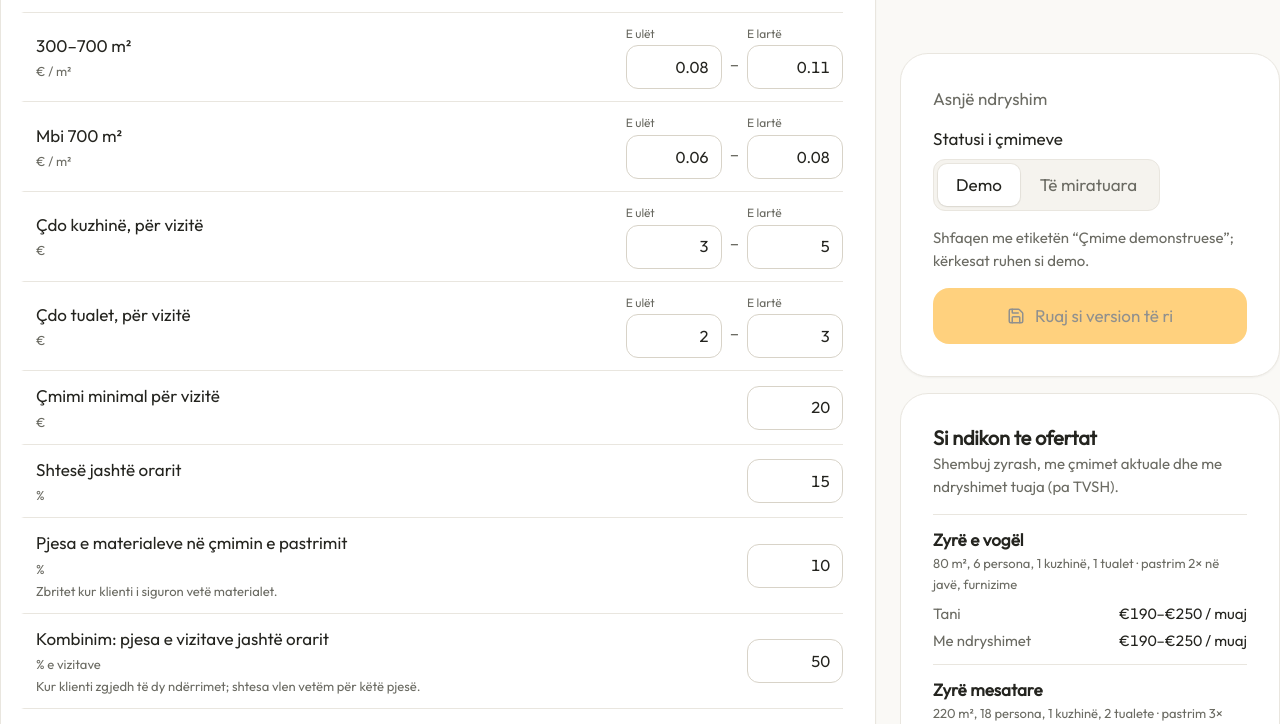
Test case: pricing editor › edits a value, shows the old one, previews the effect and saves a new version
(page scrolled)
Expected: the button "Ruaj si version të ri" is disabled, x1=933 y1=288 x2=1247 y2=344
Replace the text in the field labelled "Çmimi minimal për vizitë" with "200" at (795, 408), box x1=747 y1=386 x2=843 y2=430
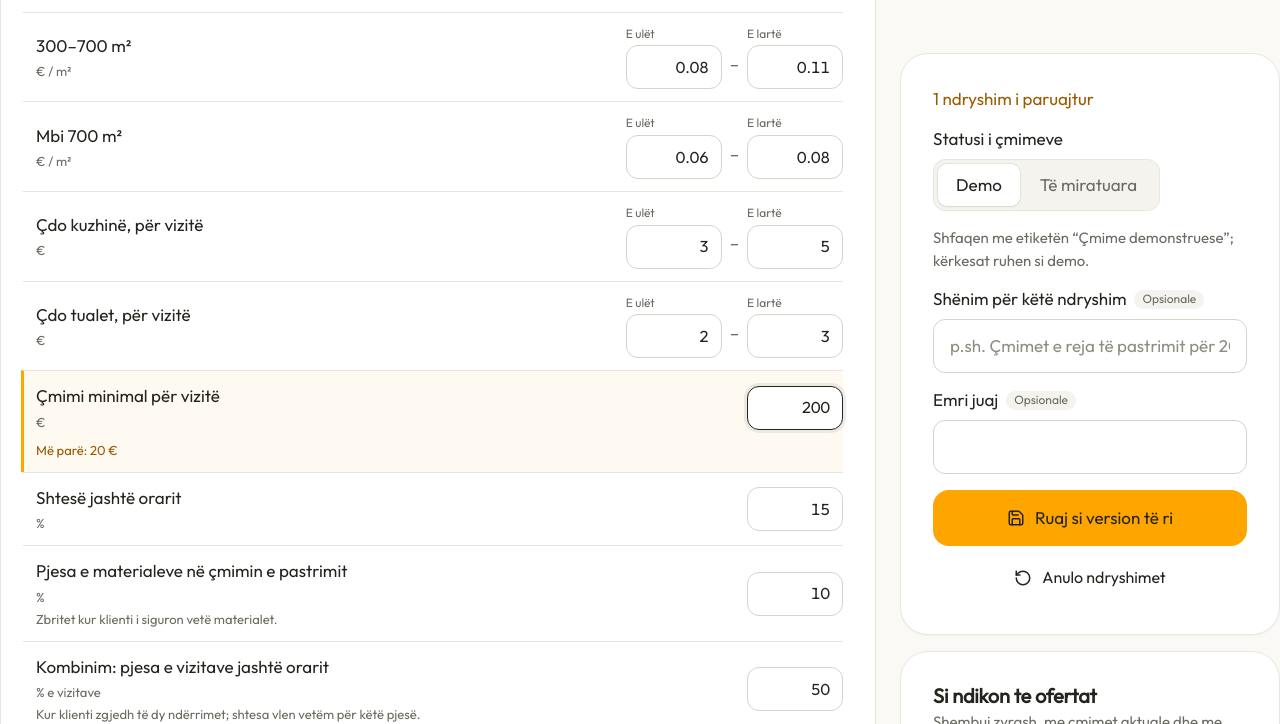
Expected: the text "1 ndryshim i paruajtur" is shown, x1=933 y1=88 x2=1094 y2=109
Expected: the text "Më parë: 20 €" is shown, x1=36 y1=442 x2=118 y2=458
Type "CEO" into the field labelled "Emri juaj Opsionale" at (1090, 447), box x1=934 y1=421 x2=1246 y2=473
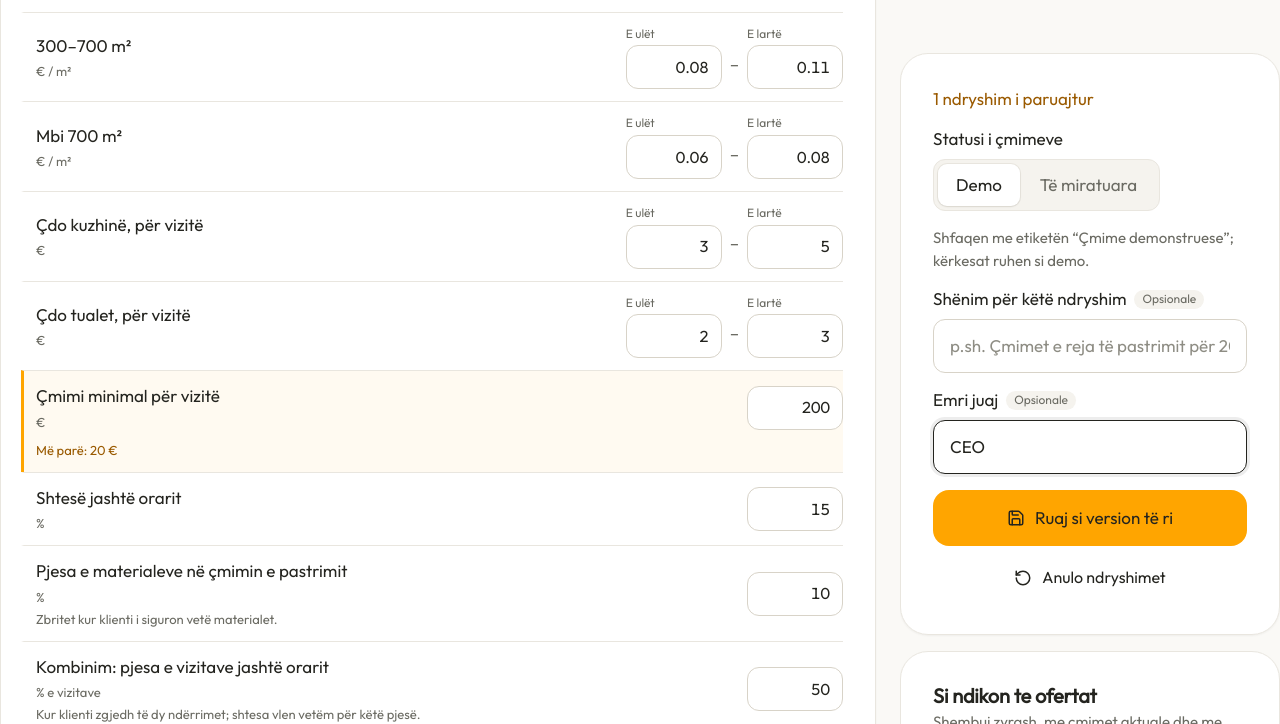
Click the button "Ruaj si version të ri" at (1090, 518), box x1=933 y1=490 x2=1247 y2=546
(page scrolled)
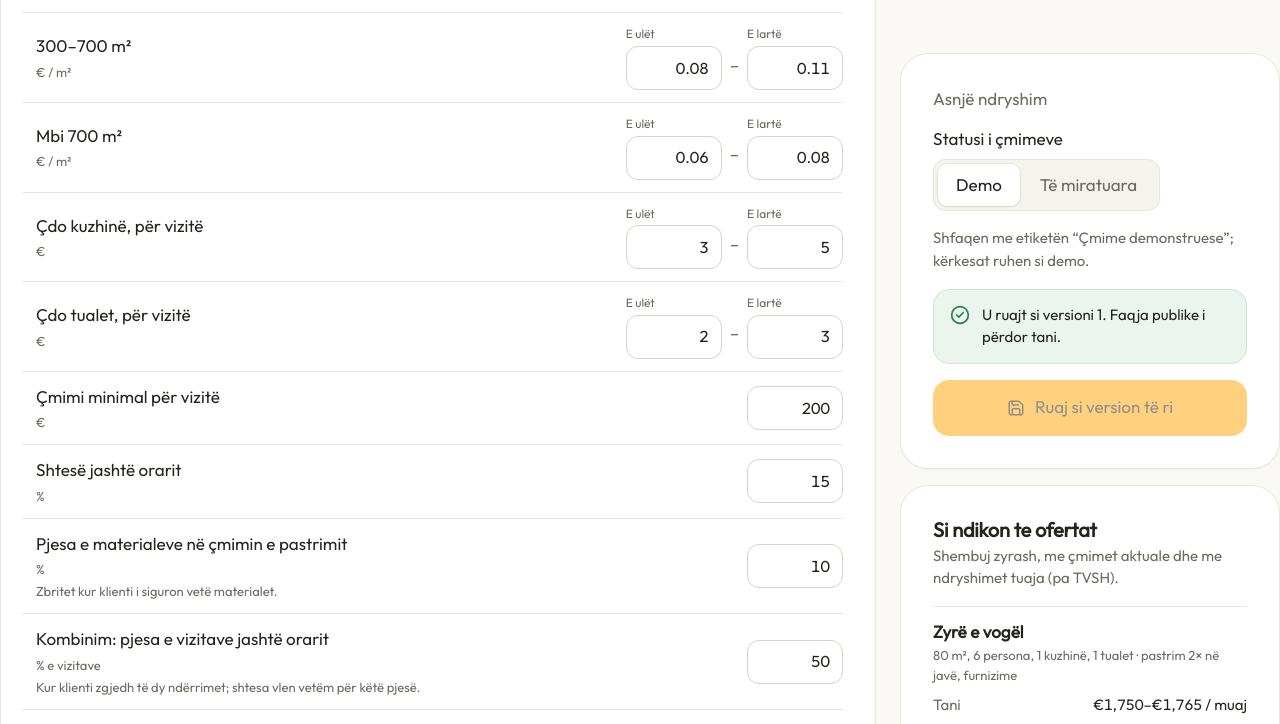
Expected: the text "U ruajt si versioni 1. Faqja publike i përdor tani." is shown, x1=982 y1=303 x2=1230 y2=348
